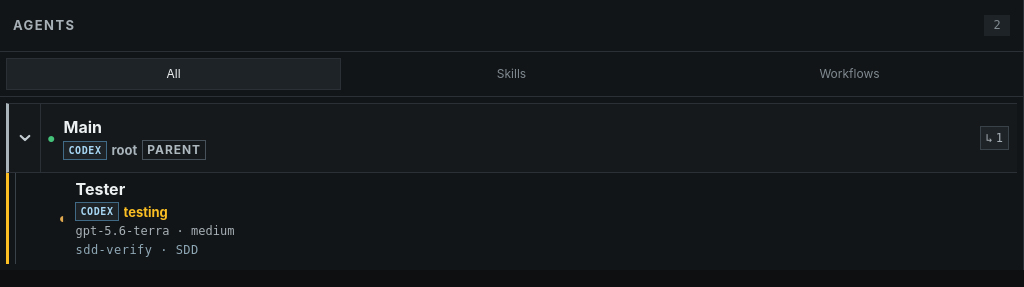
Test: dashboard interactions › collapses and expands child agents from the list
What coordinates should you click on to do the following:
click the button named "Collapse Main"
I would click on:
 (25, 138)
Its box is [9,104,41,172].
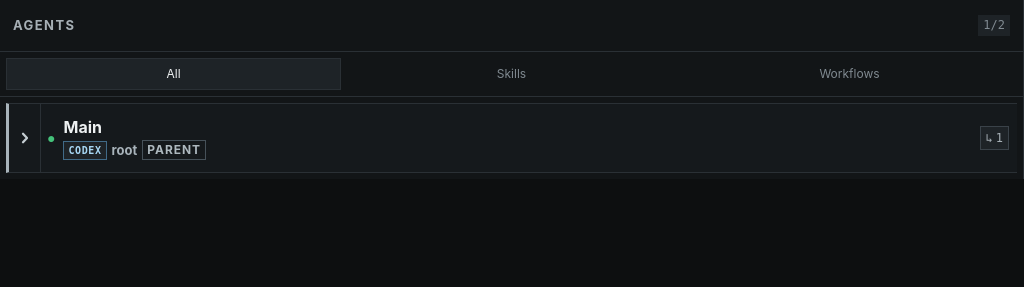
Expected: the button "Tester" is gone
Expected: the button named "Expand Main" is collapsed
What coordinates should you click on to do the following:
click the button named "Expand Main"
I would click on:
 (25, 138)
Its box is [9,104,41,172].
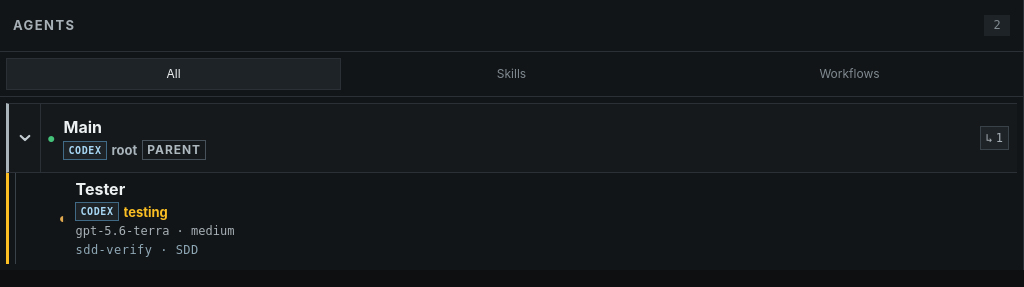
Expected: the text "Tester" is shown, [76,179,125,199]
